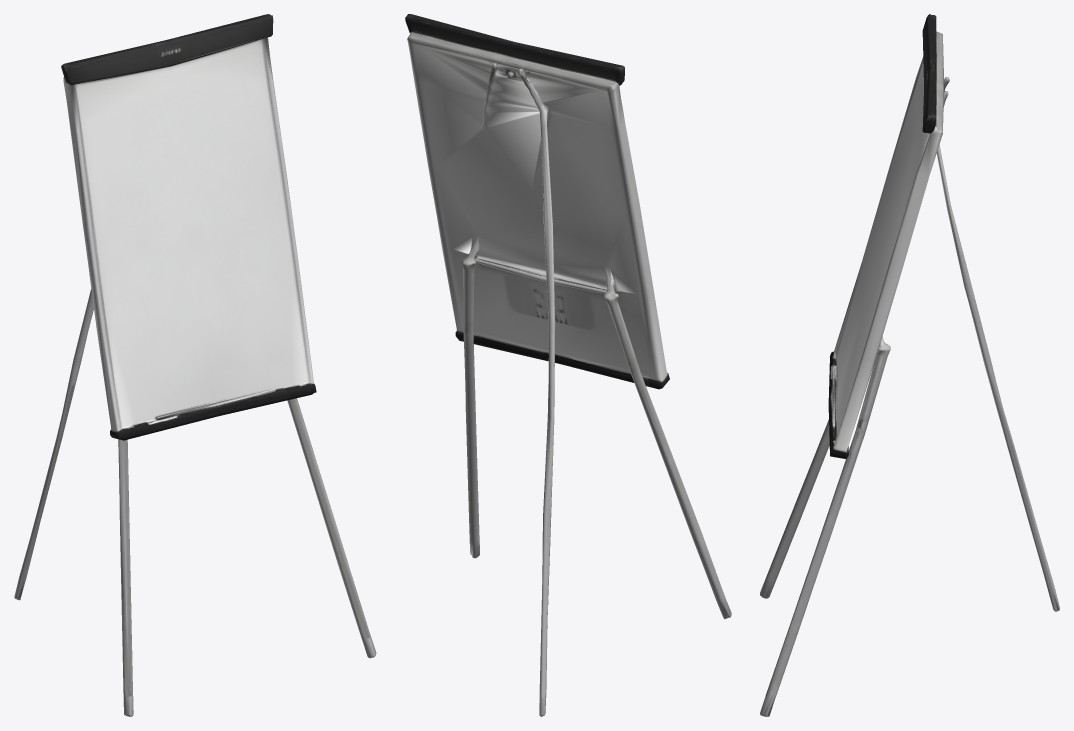
File: WHITEBOARD_FLIP_CHART_5FtTall_0222030948_texture.glb
3 renders of one model, left to right at view 1: azimuth 30°, elevation 25°; view 2: azimuth 150°, elevation 25°; view 3: azimuth 270°, elevation 25°, orthographic. The views are drawn at different scales.
Parts seen in each view (by area): view 1: Mesh_0; view 2: Mesh_0; view 3: Mesh_0.
Boxes of the visible parts, x1,y1,x2,y2 form: Mesh_0: (14, 14, 376, 716); Mesh_0: (405, 14, 731, 716); Mesh_0: (760, 14, 1059, 716).
Size of the model in its own units: 0.6805 by 1.52 by 0.6993.
1 material, 1 textured.
